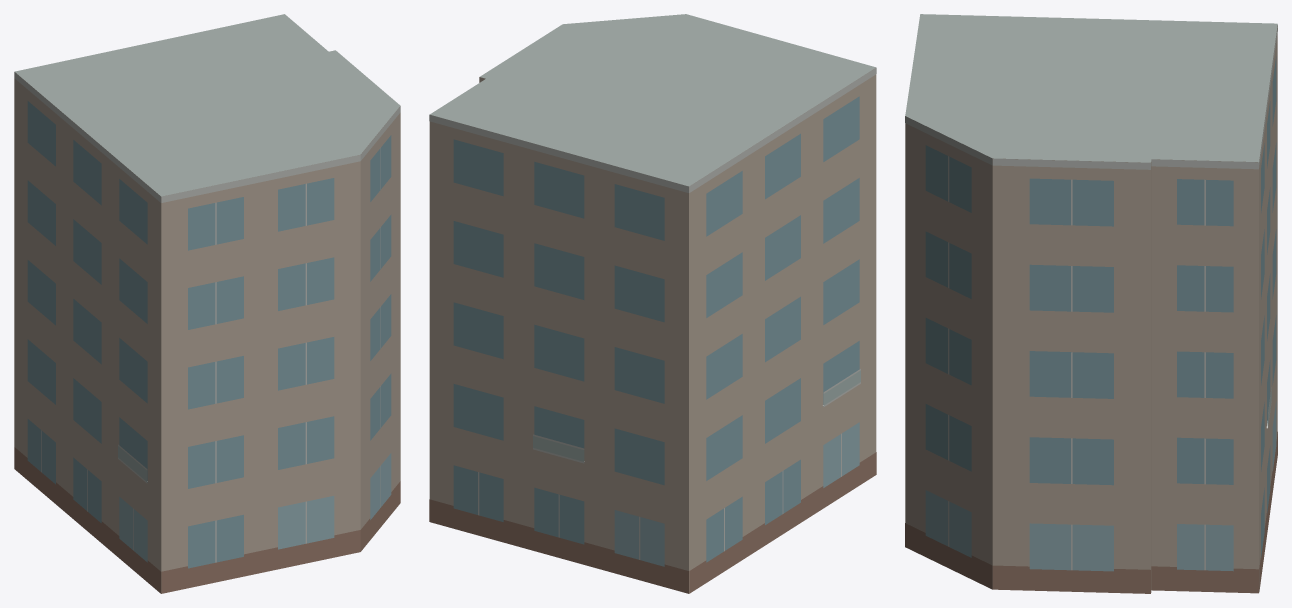
Rendered from survey-upis-32579289.glb.
3 renders of one model, left to right at view 1: azimuth 30°, elevation 25°; view 2: azimuth 150°, elevation 25°; view 3: azimuth 270°, elevation 25°, orthographic. The views are drawn at different scales.
Visible parts, largest first — view 1: survey-upis-32579289.tmp; view 2: survey-upis-32579289.tmp; view 3: survey-upis-32579289.tmp.
Boxes of the visible parts, <box> form: survey-upis-32579289.tmp: <box>14,14,400,593</box>; survey-upis-32579289.tmp: <box>429,14,876,593</box>; survey-upis-32579289.tmp: <box>905,14,1277,593</box>.
Bounding box in the file's own units: 10.89 × 14.7 × 11.52.
